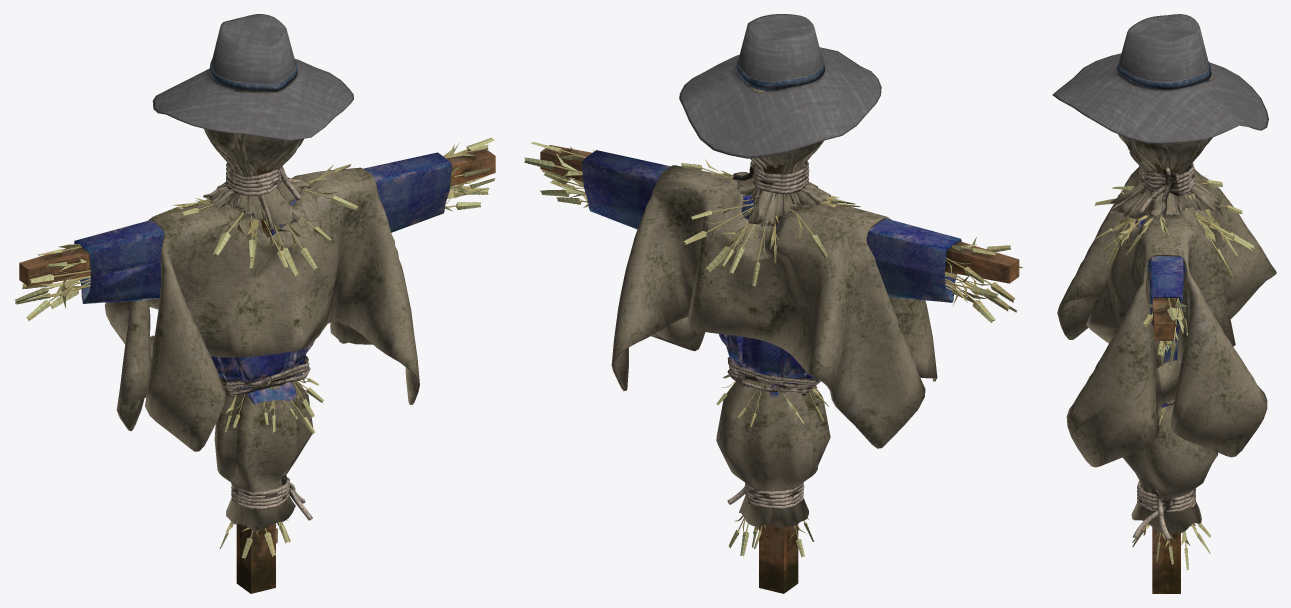
File: Scarecrow.fbx
The picture shows the model from 3 angles, left to right: view 1: azimuth 30°, elevation 25°; view 2: azimuth 150°, elevation 25°; view 3: azimuth 270°, elevation 25°; orthographic projection.
Parts seen in each view (by area): view 1: Plane.005, node-0.906; view 2: Plane.005, node-0.906; view 3: Plane.005, node-0.906.
Part boxes in pixels (bbox=[...]): Plane.005: bbox=[19, 14, 495, 593]; node-0.906: bbox=[15, 137, 495, 558]; Plane.005: bbox=[540, 14, 1019, 593]; node-0.906: bbox=[524, 142, 1023, 557]; Plane.005: bbox=[1052, 14, 1276, 593]; node-0.906: bbox=[1094, 175, 1254, 569].
Size of the model in its own units: 563 by 627 by 228.
